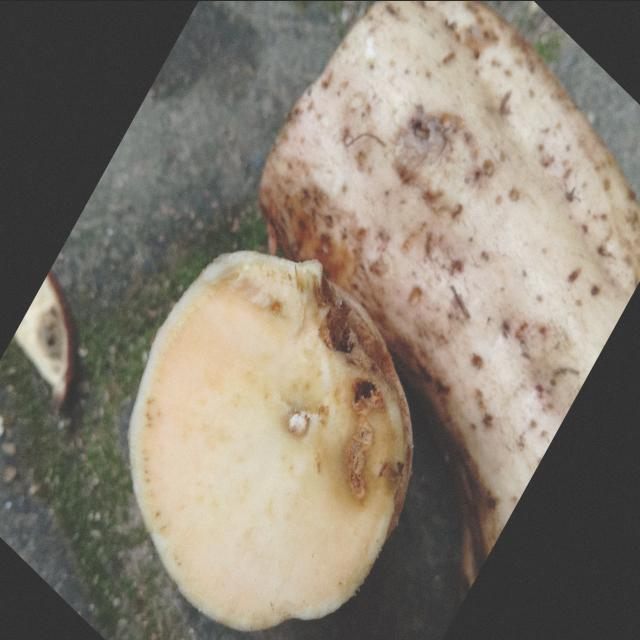Sick Sweet Potato_Tuber Rot: (129, 252, 412, 630)
